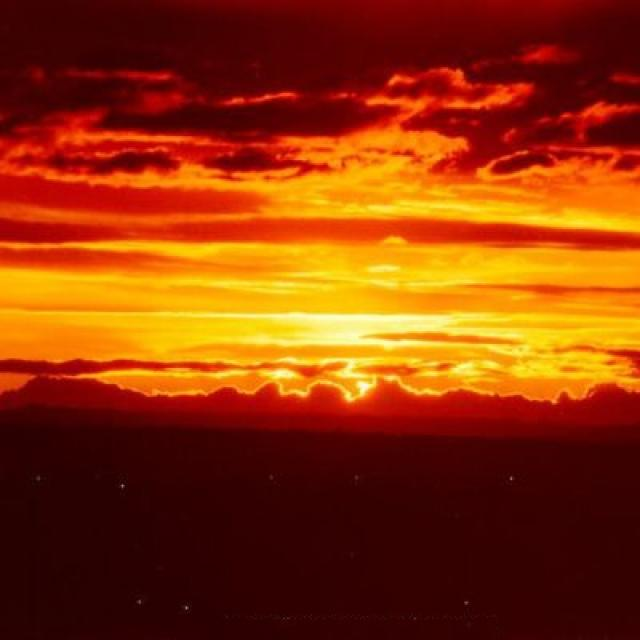As: (1, 74, 640, 399)
